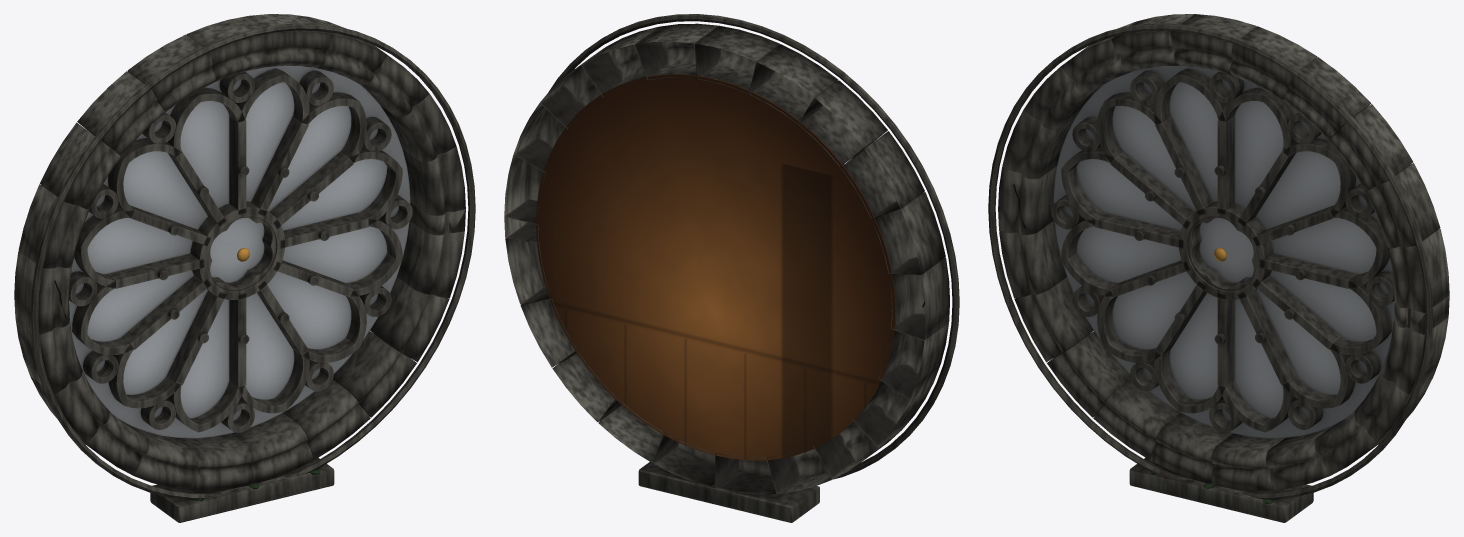
File: RoseWindowClear.fbx
3 renders of one model, left to right at view 1: azimuth 30°, elevation 25°; view 2: azimuth 150°, elevation 25°; view 3: azimuth 330°, elevation 25°, orthographic.
Visible parts, largest first — view 1: RoseWindowClear_Main, RoseWindowClear_Glass; view 2: RoseWindowClear_Room, RoseWindowClear_Main; view 3: RoseWindowClear_Main, RoseWindowClear_Glass.
Part boxes in pixels (<box>): RoseWindowClear_Main: <box>14,14,475,522</box>; RoseWindowClear_Glass: <box>69,65,410,438</box>; RoseWindowClear_Room: <box>536,74,895,460</box>; RoseWindowClear_Main: <box>504,14,959,522</box>; RoseWindowClear_Main: <box>988,14,1449,522</box>; RoseWindowClear_Glass: <box>1053,65,1394,438</box>.
Bounding box in the file's own units: 964 × 982 × 115.
